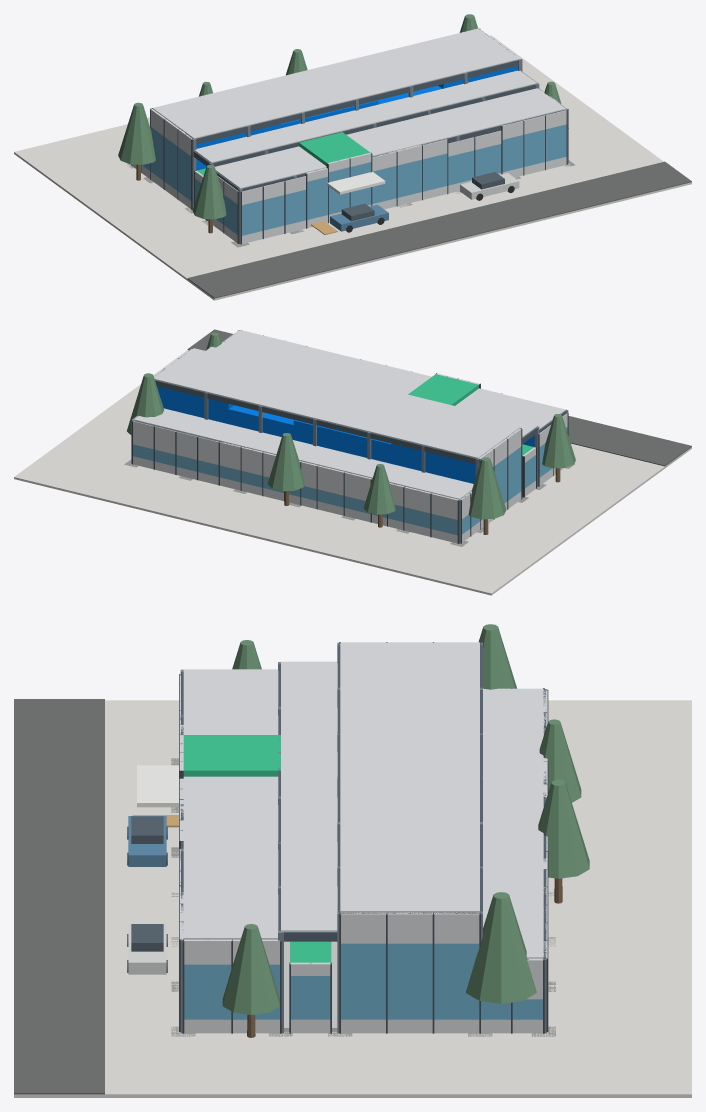
File: library-pavilion.glb
The picture shows the model from 3 angles, top to bottom: view 1: azimuth 30°, elevation 25°; view 2: azimuth 150°, elevation 25°; view 3: azimuth 270°, elevation 25°; orthographic projection. The views are drawn at different scales.
Visible parts, largest first — view 1: site-envelope, FCD-ROOF-MAIN-001, site-road-south, FCD-ROOF-SOUTH-001, FCD-ROOF-SPINE-001, tree-02-canopy, program-SP-L01-LOBBY-001, tree-01-canopy, FCD-VISION-SP-L01-CHILDREN-001-south-03, FCD-VISION-SP-L01-CHILDREN-001-south-02, FCD-VISION-SP-L01-VESTIBULE-001-south-01, FCD-VISION-SP-L01-GROUP-001-south-01 (+18 smaller); view 2: site-envelope, FCD-ROOF-MAIN-001, FCD-ROOF-SOUTH-001, FCD-ROOF-SERVICE-001, site-road-south, FCD-ROOF-SPINE-001, program-SP-L01-STACKS-001, program-SP-L01-ADULT-001, tree-02-canopy, tree-04-canopy, program-SP-L01-QUIET-001, program-SP-L01-LOBBY-001 (+12 smaller); view 3: site-envelope, FCD-ROOF-MAIN-001, site-road-south, FCD-ROOF-SOUTH-001, FCD-ROOF-SPINE-001, FCD-ROOF-SERVICE-001, tree-05-canopy, program-SP-L01-LOBBY-001, FCD-VISION-SP-L01-QUIET-001-east-02, FCD-VISION-SP-L01-QUIET-001-east-01, tree-06-canopy, tree-04-canopy (+17 smaller).
Boxes of the visible parts, <box> form: site-envelope: <box>14,35,691,300</box>; FCD-ROOF-MAIN-001: <box>152,28,519,138</box>; site-road-south: <box>187,161,691,298</box>; FCD-ROOF-SOUTH-001: <box>215,88,565,188</box>; FCD-ROOF-SPINE-001: <box>195,70,536,163</box>; tree-02-canopy: <box>118,102,155,164</box>; program-SP-L01-LOBBY-001: <box>299,132,369,165</box>; tree-01-canopy: <box>192,165,226,219</box>; FCD-VISION-SP-L01-CHILDREN-001-south-03: <box>423,153,447,191</box>; FCD-VISION-SP-L01-CHILDREN-001-south-02: <box>397,159,421,197</box>; FCD-VISION-SP-L01-VESTIBULE-001-south-01: <box>307,177,327,219</box>; FCD-VISION-SP-L01-GROUP-001-south-01: <box>448,150,474,185</box>; site-envelope: <box>14,350,691,595</box>; FCD-ROOF-MAIN-001: <box>154,348,519,458</box>; FCD-ROOF-SOUTH-001: <box>216,330,565,429</box>; FCD-ROOF-SERVICE-001: <box>133,408,473,499</box>; site-road-south: <box>187,329,691,466</box>; FCD-ROOF-SPINE-001: <box>206,346,536,437</box>; program-SP-L01-STACKS-001: <box>293,420,391,463</box>; program-SP-L01-ADULT-001: <box>391,443,475,483</box>; tree-02-canopy: <box>468,457,506,519</box>; tree-04-canopy: <box>267,433,304,491</box>; program-SP-L01-QUIET-001: <box>157,386,233,423</box>; program-SP-L01-LOBBY-001: <box>408,374,478,405</box>; site-envelope: <box>14,700,691,1097</box>; FCD-ROOF-MAIN-001: <box>340,642,479,912</box>; site-road-south: <box>14,699,104,1094</box>; FCD-ROOF-SOUTH-001: <box>183,669,278,939</box>; FCD-ROOF-SPINE-001: <box>281,661,337,931</box>; FCD-ROOF-SERVICE-001: <box>483,688,543,958</box>; tree-05-canopy: <box>466,892,536,1003</box>; program-SP-L01-LOBBY-001: <box>183,735,280,776</box>; FCD-VISION-SP-L01-QUIET-001-east-02: <box>387,943,432,1019</box>; FCD-VISION-SP-L01-QUIET-001-east-01: <box>341,943,385,1019</box>; tree-06-canopy: <box>222,924,279,1014</box>; tree-04-canopy: <box>538,779,589,878</box>.
Size of the model in its own units: 44 by 7.5 by 32.
